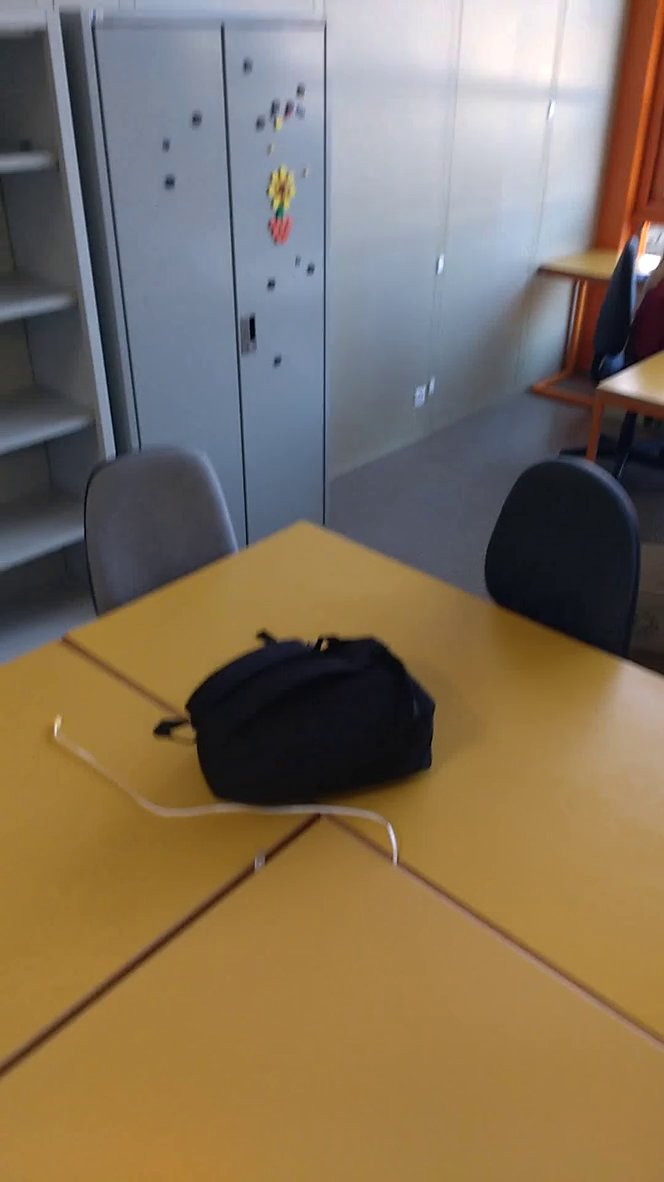bag: (154, 618, 452, 822)
chair: (480, 440, 658, 683), (69, 435, 257, 620)
